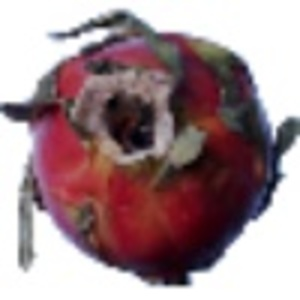pitaia: (1, 9, 300, 289)
